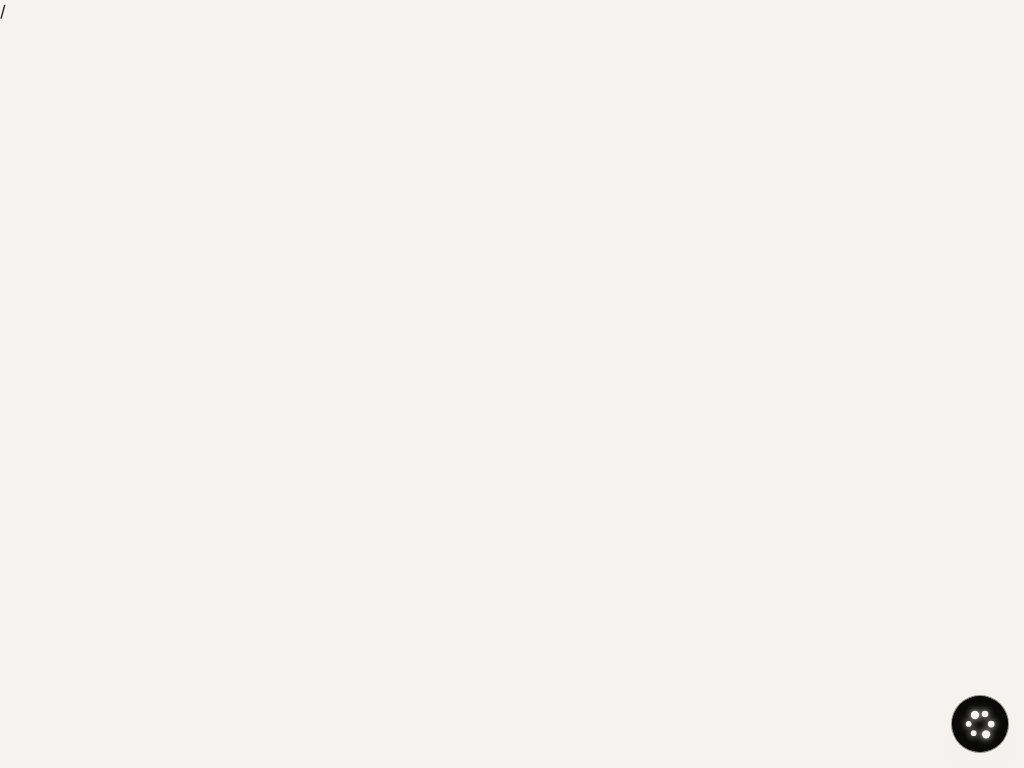
Test: Asistente › el texto de la respuesta nunca se interpreta como HTML
The image size is (1024, 768).
Click the button named "Abrir el asistente".
click(980, 724)  # box [952, 696, 1008, 752]
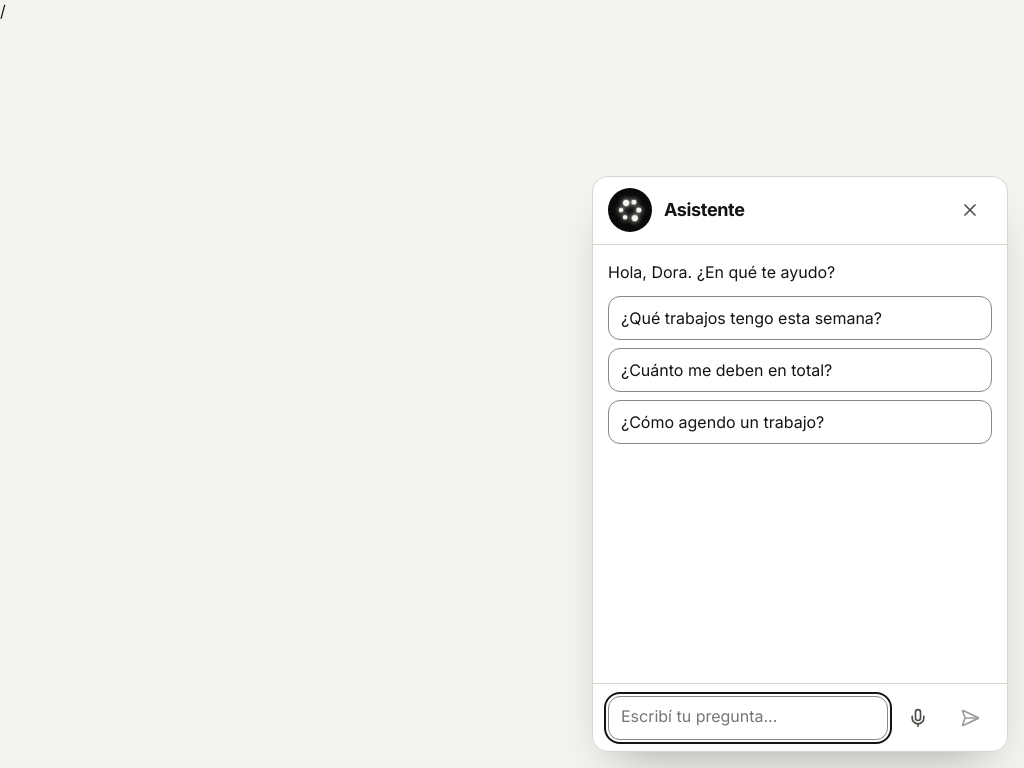
Type "hola" into the text box named "Escribile al asistente".
click(748, 718); type("hola")  # box [608, 696, 888, 740]
Then press Enter
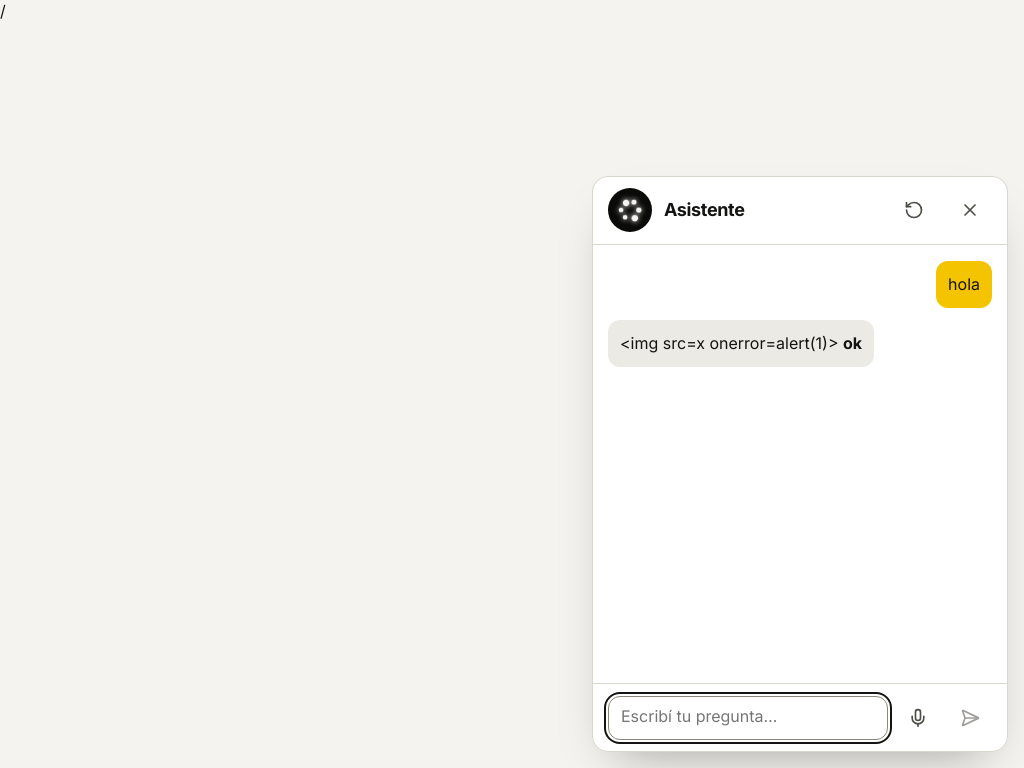
Expected: the text "ok" is shown, [843, 333, 862, 353]
